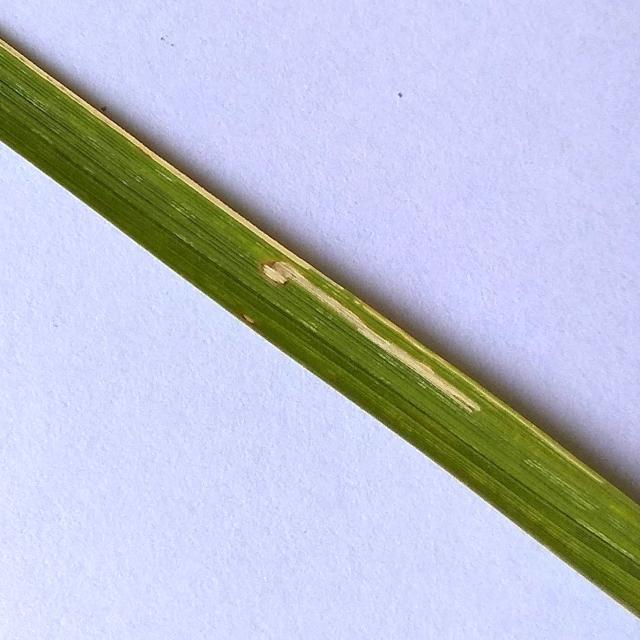Blast: (301, 278, 340, 308), (260, 261, 296, 287), (242, 311, 260, 325)
